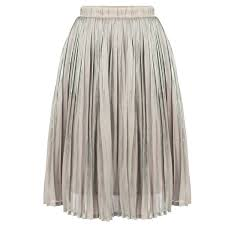C_skirt: (37, 5, 208, 222)
